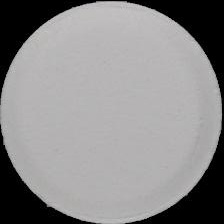68151-0237: (0, 0, 224, 224)
